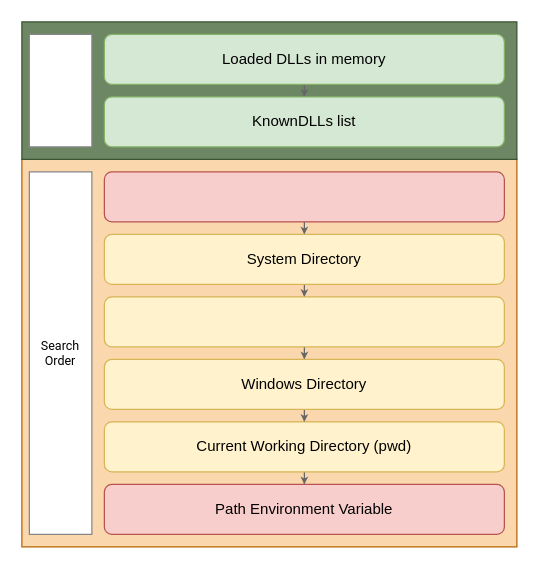
Image size: 539x569. Some labels were removed from this diagram. Each missing label, with the centre of its shape:
16-bit System Directory: (x=303, y=321)
Application folder: (x=303, y=196)
Pre-search: (x=60, y=90)
